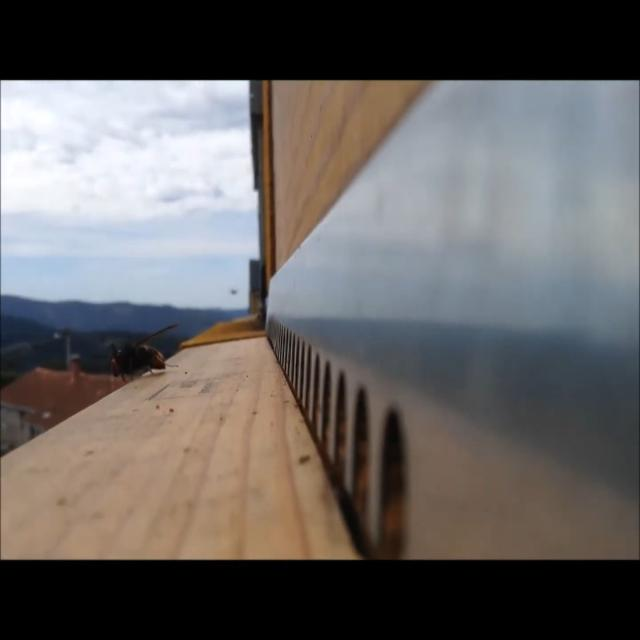Hornets: (106, 322, 182, 383)
